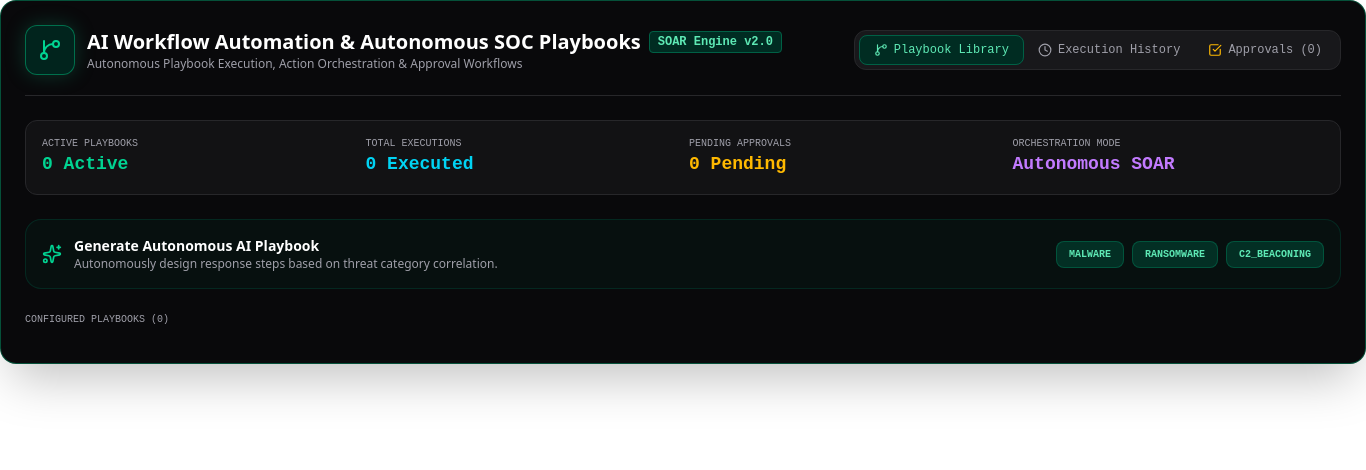
Test: WorkflowAutomation Component › switches to Execution History tab
The image size is (1366, 470).
Expected: the heading "AI Workflow Automation & Autonomous SOC Playbooks" is shown, [87, 28, 641, 55]
Click the button "Execution History": (1109, 50) [1024, 36, 1194, 64]
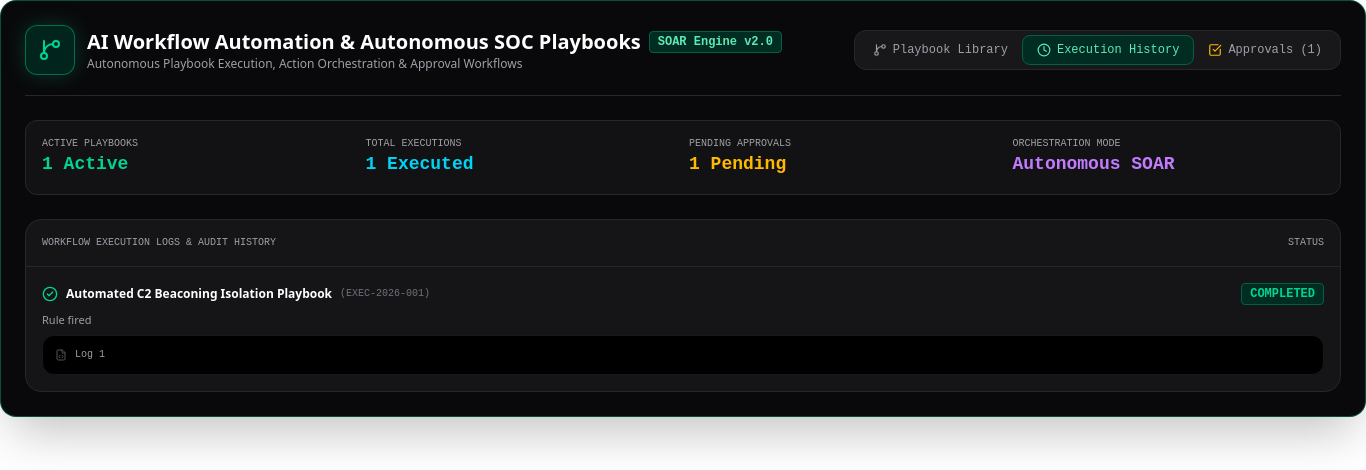
Result: the text "Workflow Execution Logs & Audit History" is shown at [42, 236, 276, 250]
